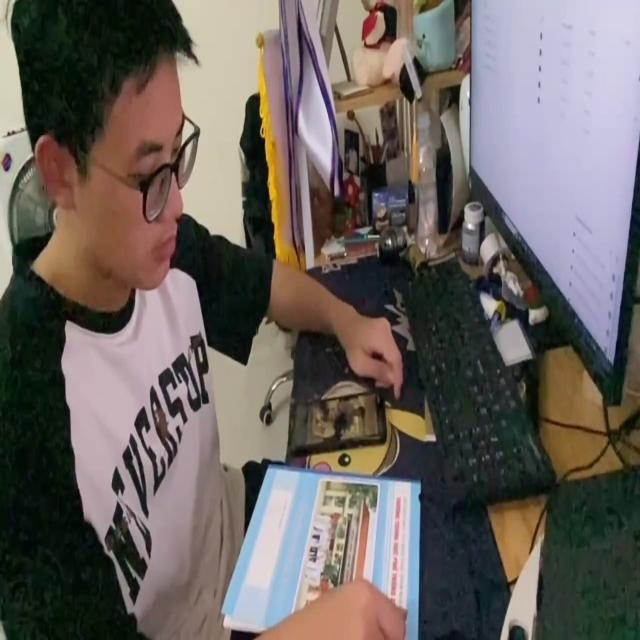book: (216, 459, 423, 640)
laptop: (469, 2, 640, 412)
phone: (288, 390, 388, 453)
student: (3, 0, 408, 640)
